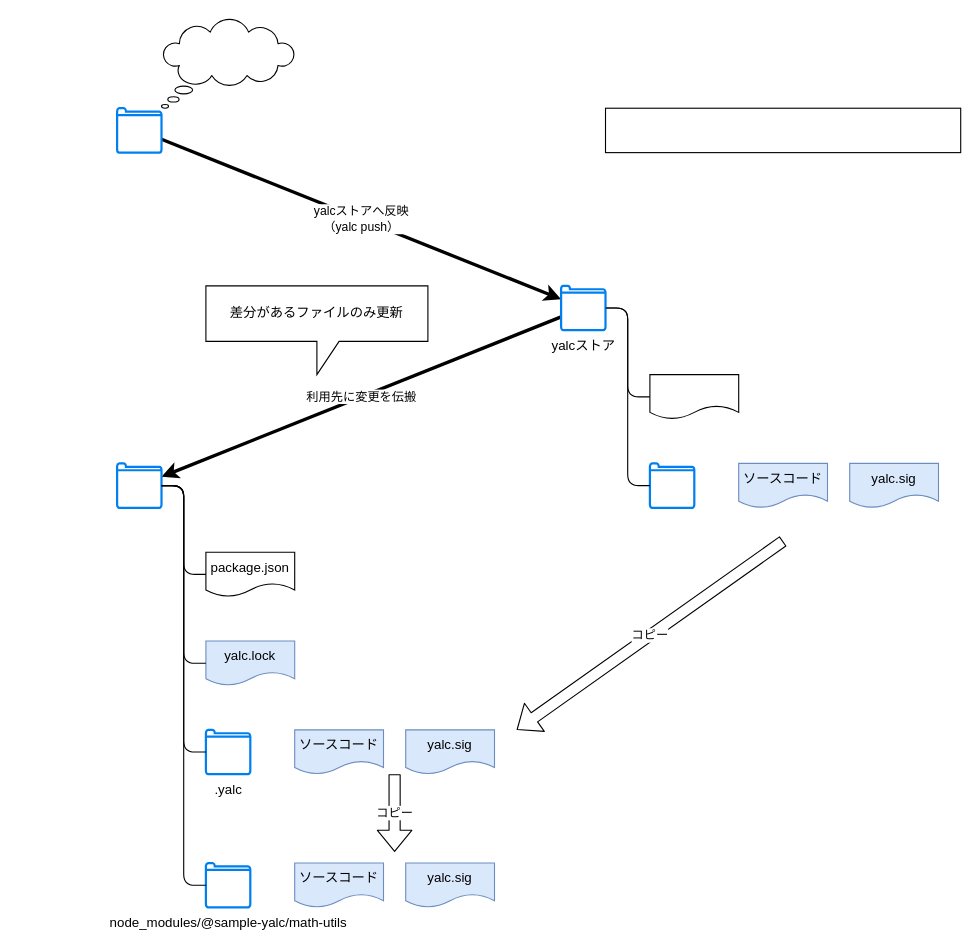
Some shapes in this 980 by 950 pixel diagram are drawn without their labels. The centre of each missing label's shape, as x and y in pixels:
"instrations.json" belongs at [694,396].
"packages/@sample-yalc/math-utils/1.0.0" belongs at [671,485].
"コード変更" belongs at [227,63].
"ライブラリ @sample-yalc/math-utils" belongs at [138,130].
"ライブラリを利用するアプリケーション demo-app" belongs at [138,485].
"青：pushのタイミングで更新されるリソース" belongs at [782,130].
